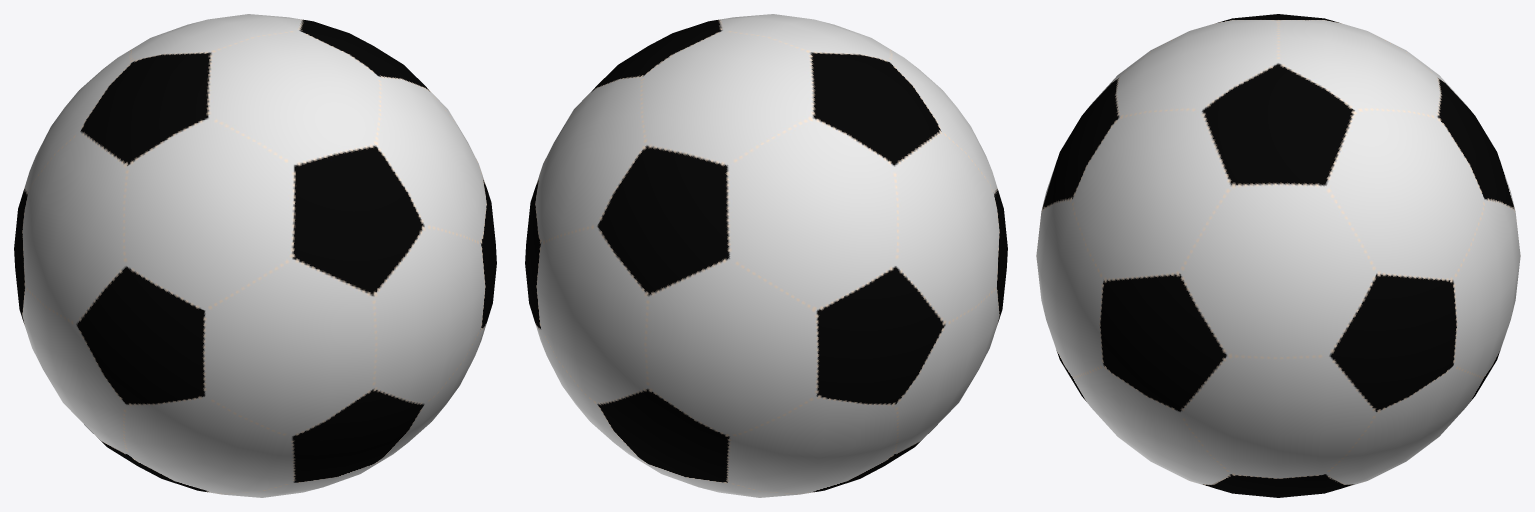
The model's file is ball.glb.
3 views of the same model, side by side, from view 1: azimuth 30°, elevation 25°; view 2: azimuth 150°, elevation 25°; view 3: azimuth 270°, elevation 25° (orthographic).
Visible parts, largest first — view 1: Ball low; view 2: Ball low; view 3: Ball low.
Boxes of the visible parts, bbox=[...] form: Ball low: bbox=[14, 14, 496, 497]; Ball low: bbox=[525, 14, 1007, 497]; Ball low: bbox=[1036, 14, 1520, 497].
Bounding box in the file's own units: 0.3 × 0.3 × 0.3.
Materials: 1 (1 with a texture image).
